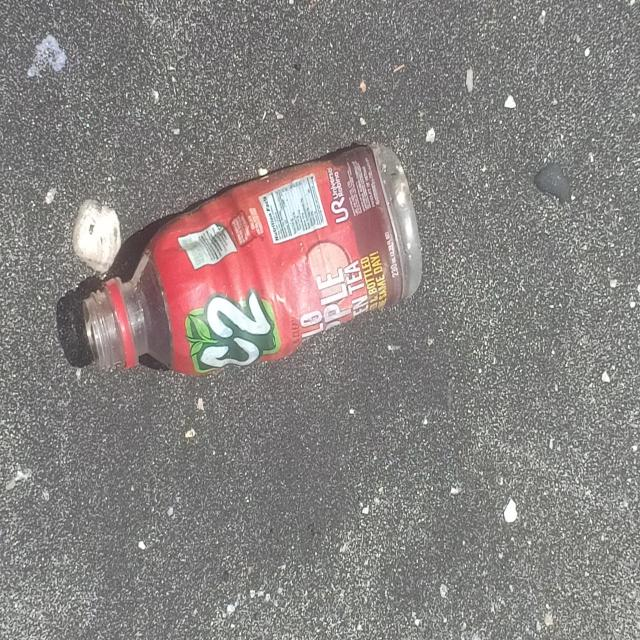plastic_waste: (81, 140, 425, 380)
